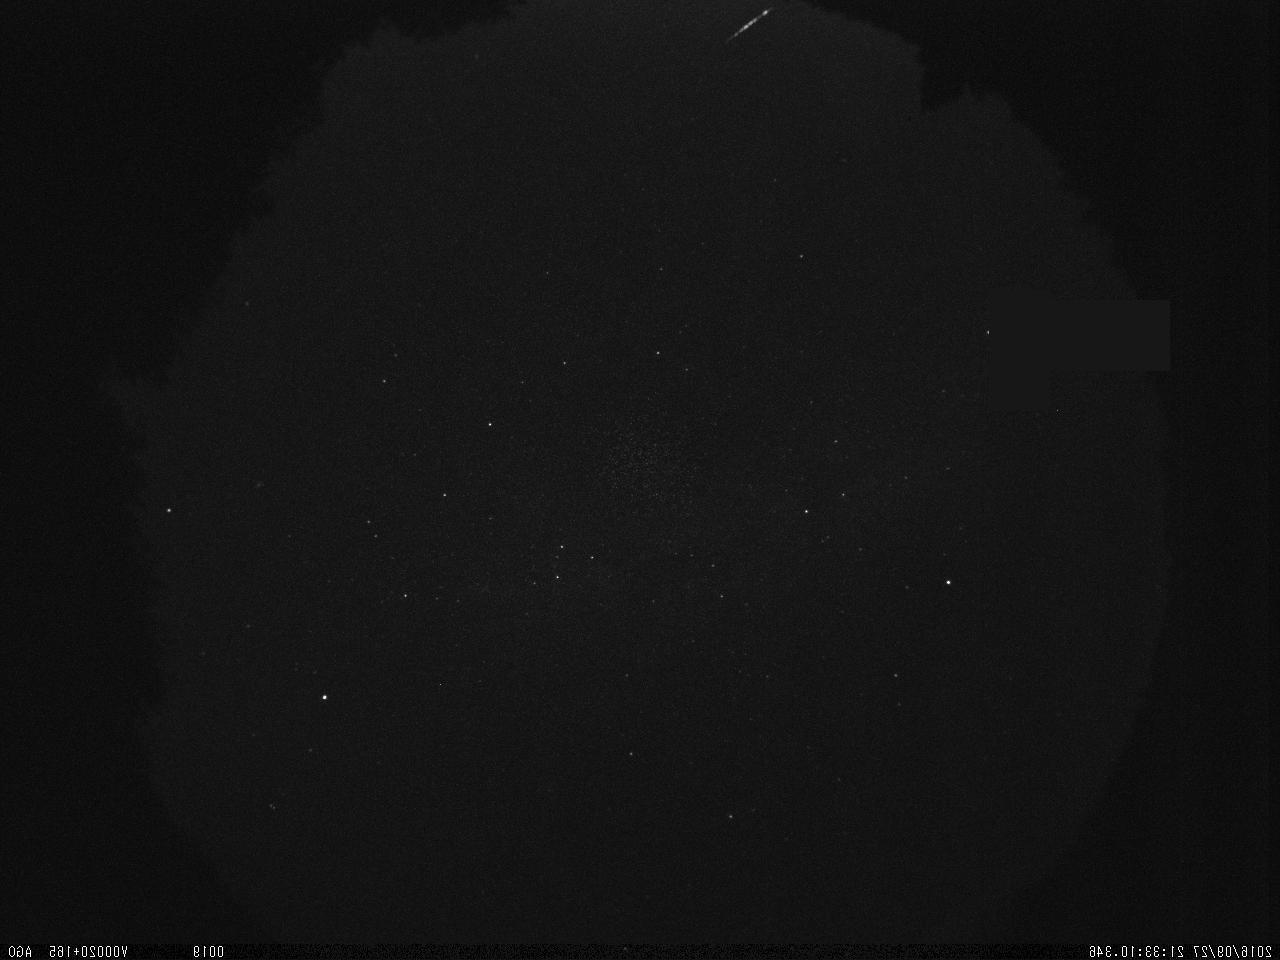meteor: (717, 1, 784, 56)
